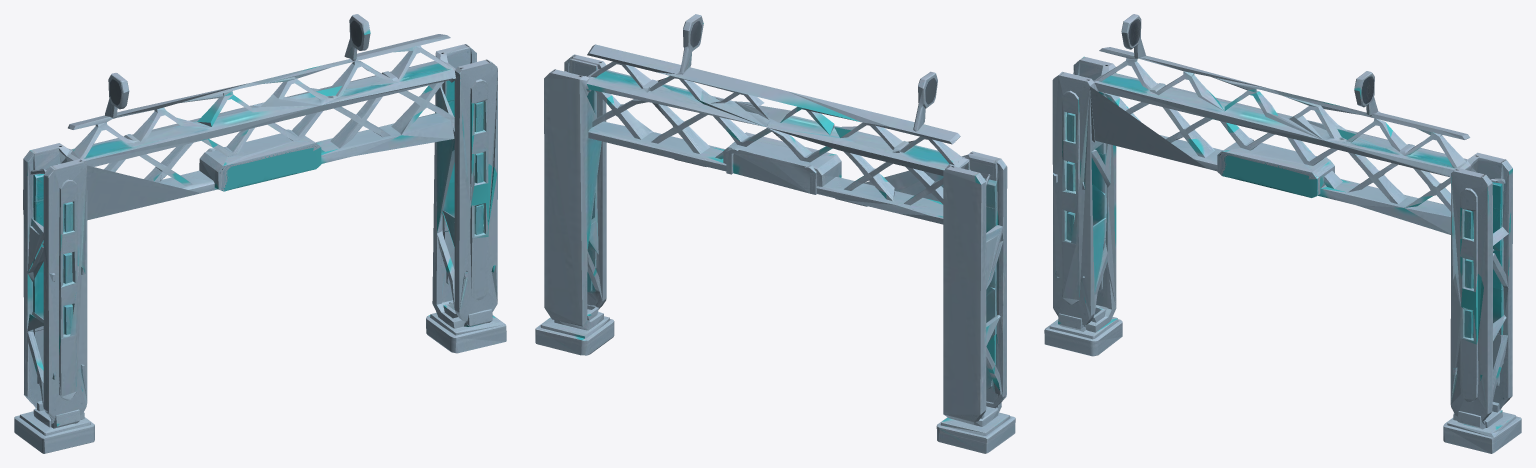
The model's file is gantry.glb.
3 views of the same model, side by side, from view 1: azimuth 30°, elevation 25°; view 2: azimuth 150°, elevation 25°; view 3: azimuth 330°, elevation 25° (orthographic). The views are drawn at different scales.
Size of the model in its own units: 1.9 by 1.38 by 0.2184.
Materials: 1 (1 with a texture image).
